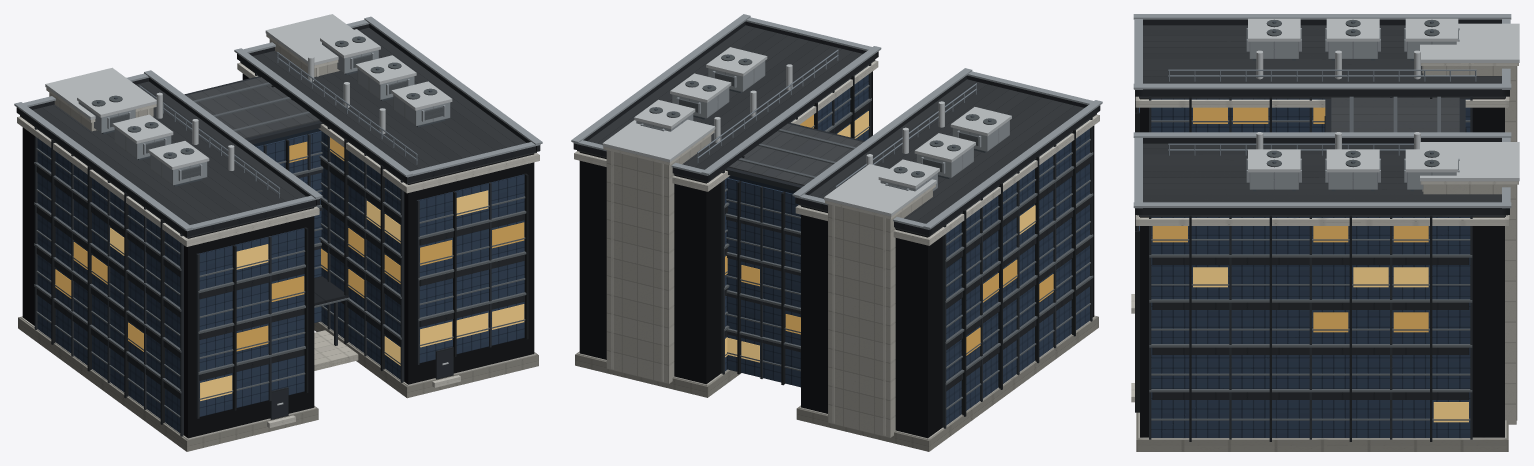
The model's file is el-4-built.glb.
3 renders of one model, left to right at view 1: azimuth 30°, elevation 25°; view 2: azimuth 150°, elevation 25°; view 3: azimuth 270°, elevation 25°, orthographic. The views are drawn at different scales.
Bounding box in the file's own units: 31.14 × 20.08 × 26.63.
Materials: 35 (24 with a texture image).
